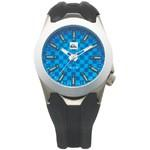watch: (40, 17, 109, 95)
